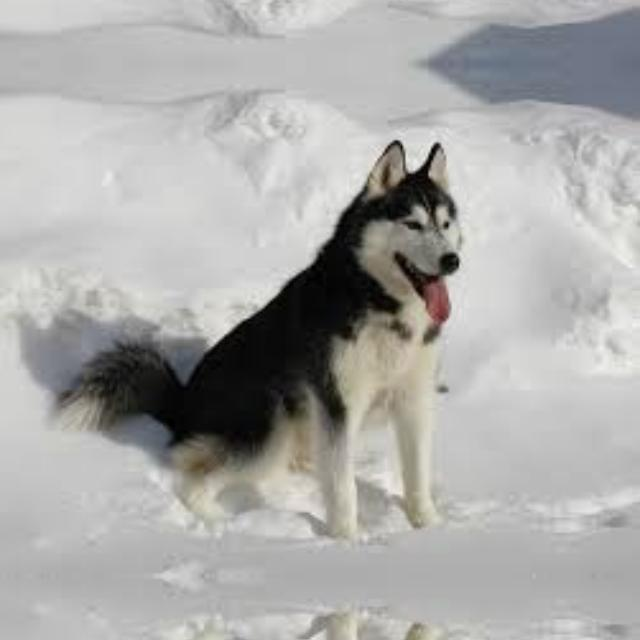dog: (127, 128, 518, 556), (127, 594, 518, 640)
